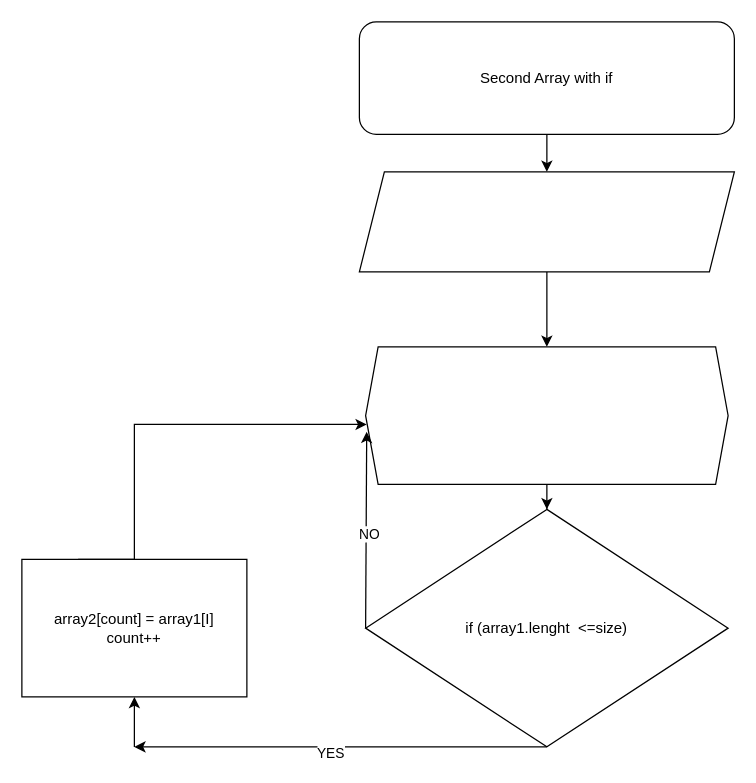
This 756x783 diagram has some shape labels left out. The shapes that lost their labels are listed below. From the top down, each one's centre as x and y in pixels, then its label:
At point (546, 221): "string array1 string array2 int count = 0 int size".
At point (546, 415): "for( int I=0; i<array1.lenght;i++ )".
